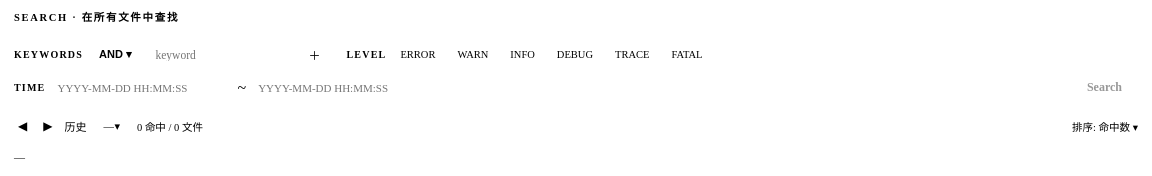
Test: SearchPanel form edits › removes a keyword chip via its × button
This screenshot has width=1152, height=176.
Type "refused" into the field named "keyword input" at (220, 54), box 148,46 -> 294,64
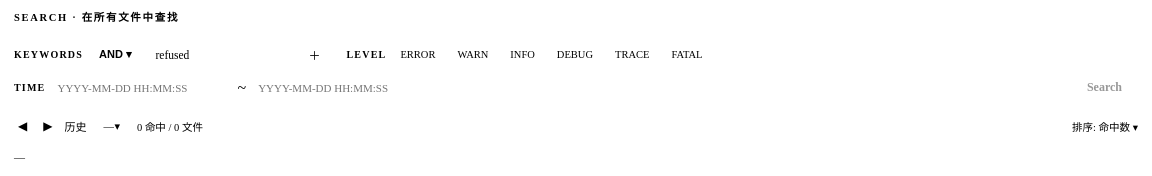
Click the button named "add keyword" at (314, 54), box 300,43 -> 330,66
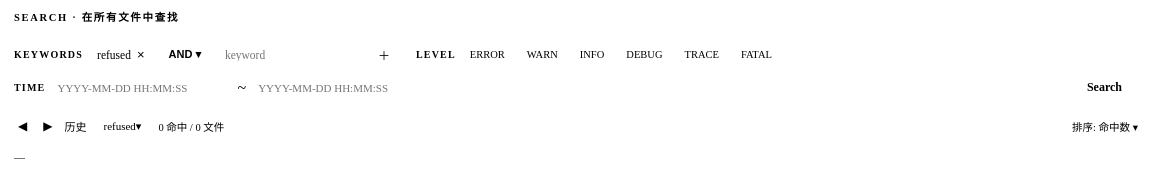
Type "timeout" into the field named "keyword input" at (290, 54), box 217,46 -> 363,64
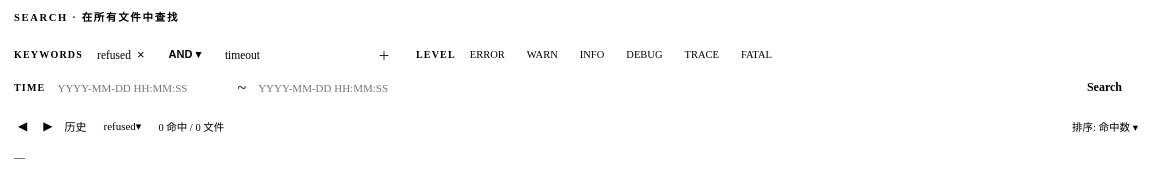
Click the button named "add keyword" at (384, 54), box 369,43 -> 399,66
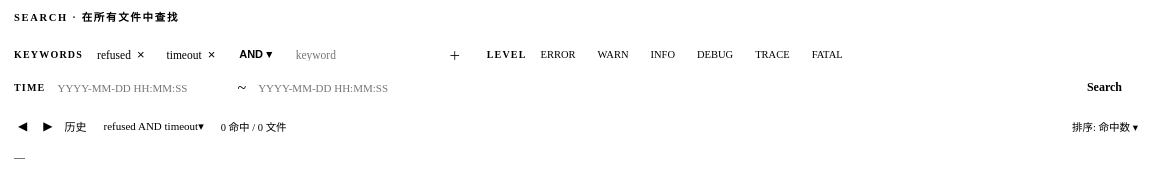
Click the button named "remove keyword refused" at (141, 54), box 137,48 -> 144,61
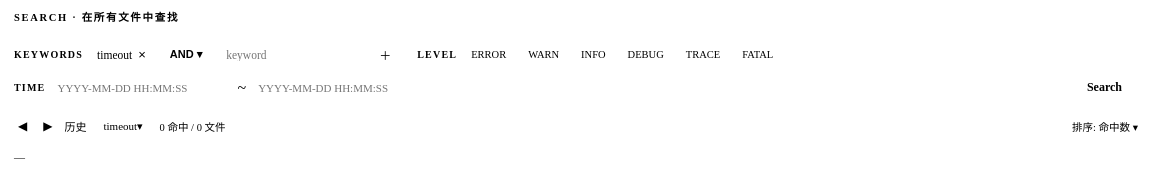
Expected: the text "timeout" next to "Keywords" is shown, 97,48 -> 132,60
Expected: the text "refused" is gone
